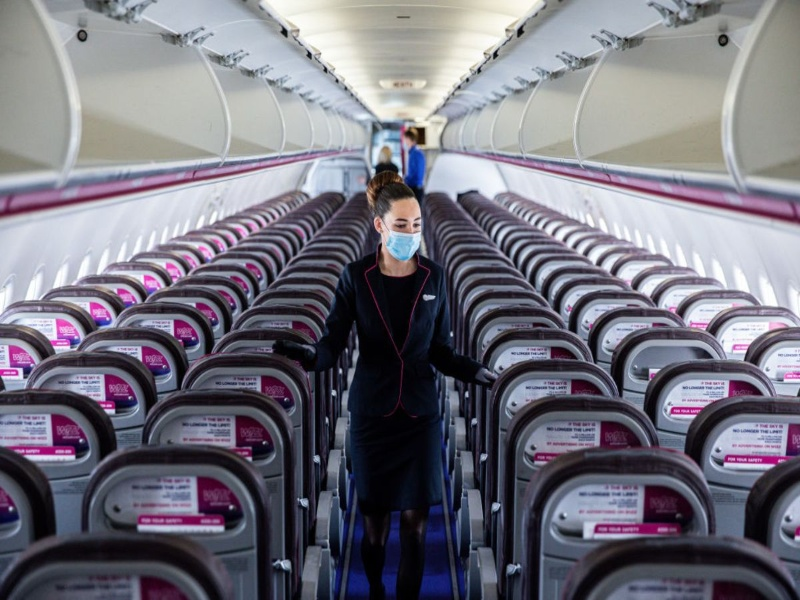mask: (385, 230, 422, 262)
